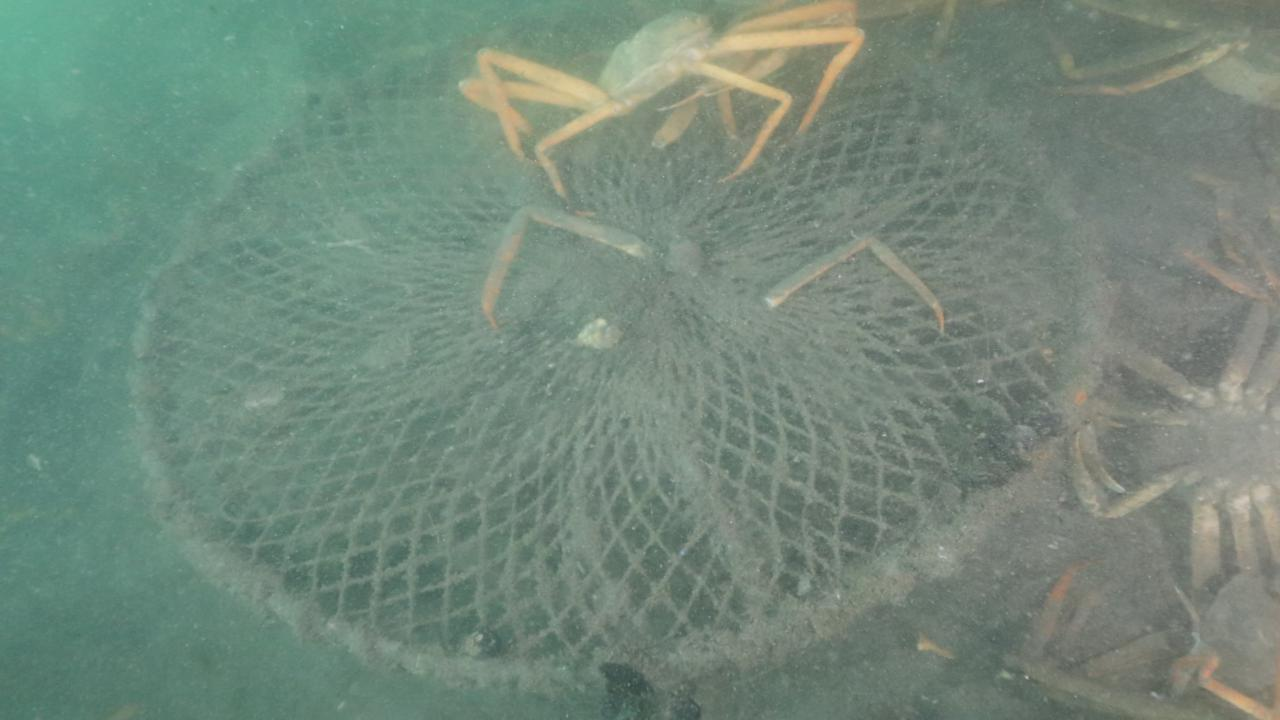circular fish trap: (124, 13, 1120, 703)
